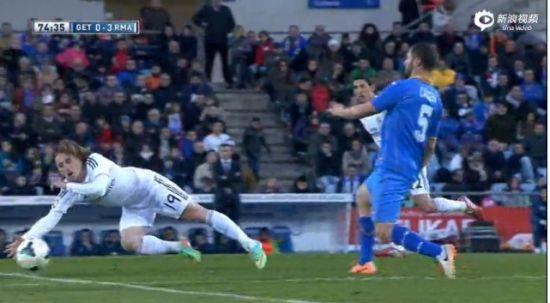down: (14, 132, 286, 288)
up: (328, 41, 466, 282)
